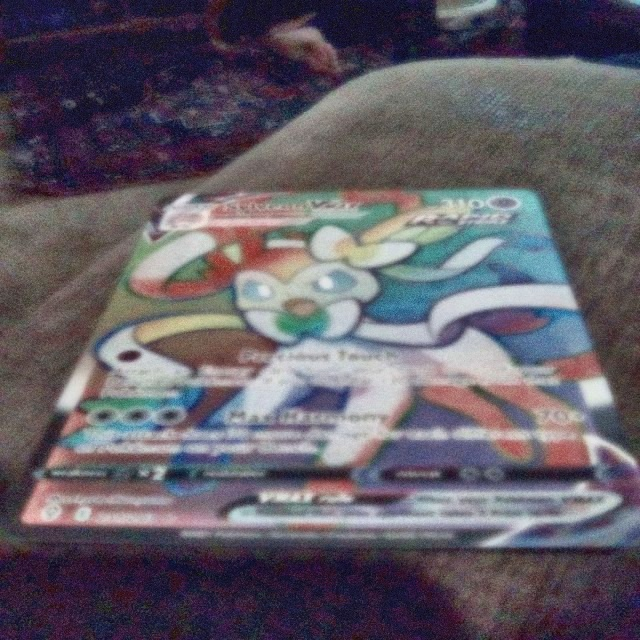card: (3, 188, 640, 548)
